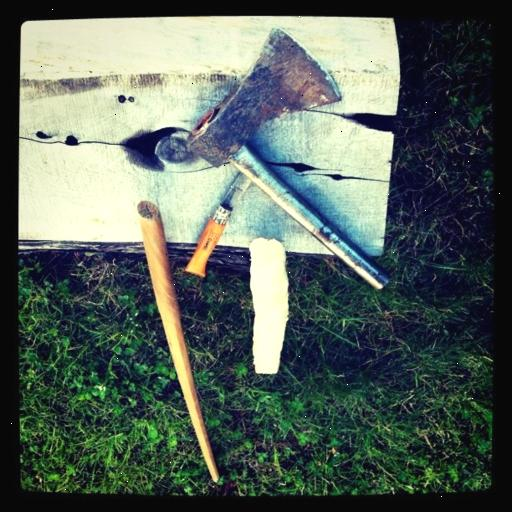Axe: (186, 25, 392, 294)
